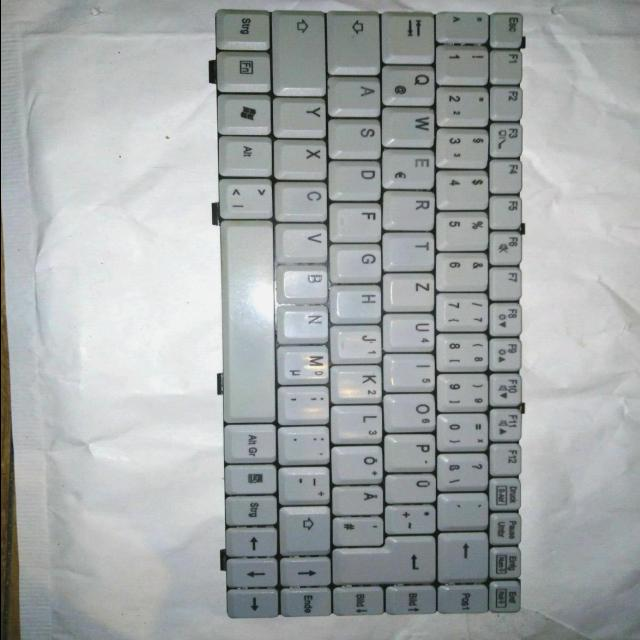0: (437, 412, 491, 451)
1: (437, 45, 491, 85)
2: (437, 86, 491, 127)
3: (437, 127, 491, 169)
4: (437, 170, 491, 210)
5: (437, 210, 491, 250)
6: (437, 251, 491, 291)
7: (437, 292, 491, 331)
8: (437, 333, 491, 371)
9: (437, 372, 491, 411)
a: (329, 76, 383, 116)
accent: (439, 491, 491, 528)
ae: (333, 485, 386, 515)
alt-left: (221, 135, 275, 176)
altgr-right: (225, 422, 279, 462)
b: (283, 265, 331, 299)
c: (276, 180, 331, 222)
caret: (437, 10, 491, 42)
comma: (279, 385, 333, 424)
d: (330, 160, 384, 201)
del: (438, 531, 492, 581)
e: (383, 148, 437, 188)
enter: (334, 534, 438, 583)
f: (331, 202, 385, 241)
g: (333, 243, 385, 281)
h: (334, 284, 384, 321)
hash: (334, 515, 386, 545)
i: (386, 352, 439, 391)
j: (334, 325, 384, 362)
k: (333, 365, 385, 403)
keyboard: (211, 3, 531, 626)
l: (332, 404, 385, 443)
less: (219, 177, 275, 219)
m: (278, 344, 332, 384)
minus: (280, 465, 333, 504)
n: (281, 306, 331, 341)
o: (385, 392, 439, 432)
oe: (333, 444, 386, 483)
p: (386, 433, 439, 472)
plus: (386, 503, 439, 533)
point: (279, 425, 332, 465)
q: (383, 64, 437, 106)
r: (383, 190, 437, 230)
s: (330, 117, 384, 159)
shift-left: (274, 9, 330, 95)
shift-lock: (328, 8, 383, 74)
shift-right: (280, 504, 334, 554)
space: (225, 221, 278, 420)
ss: (437, 452, 491, 490)
strg-left: (217, 8, 272, 50)
strg-right: (226, 495, 280, 525)
t: (383, 231, 437, 270)
tab: (382, 10, 438, 62)
u: (385, 313, 439, 351)
ue: (386, 472, 440, 502)
v: (279, 223, 331, 261)
w: (383, 107, 439, 147)
x: (275, 139, 330, 180)
y: (274, 97, 329, 138)
z: (385, 272, 438, 311)
